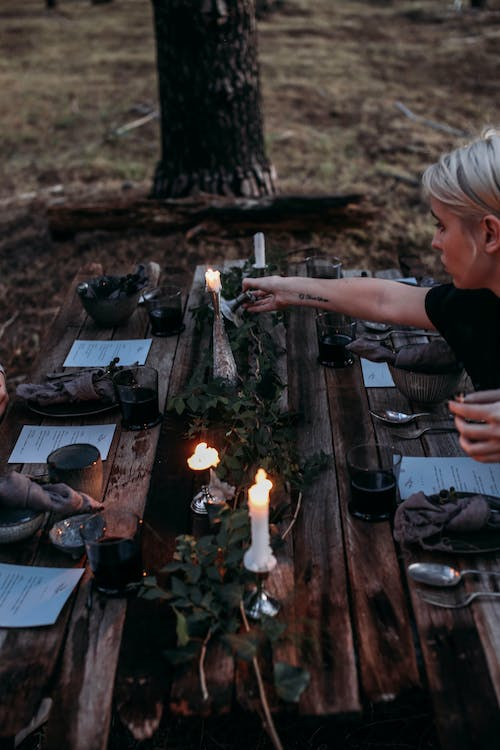alcohol: (81, 505, 146, 597), (343, 443, 404, 522), (111, 362, 163, 430), (312, 308, 358, 368), (142, 283, 188, 339), (302, 252, 344, 279)
